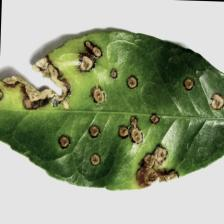canker: (1, 38, 224, 183)
